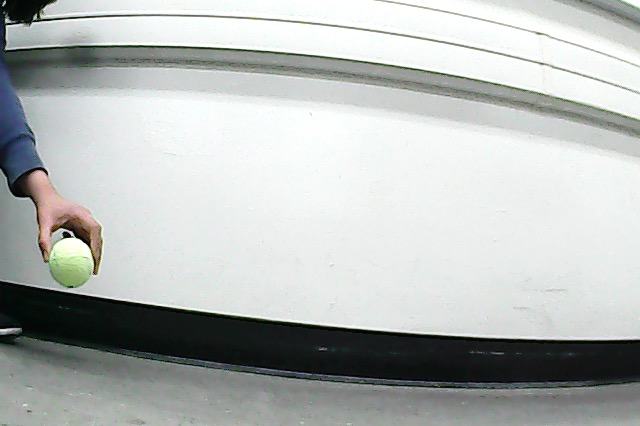ball: (50, 239, 95, 289)
